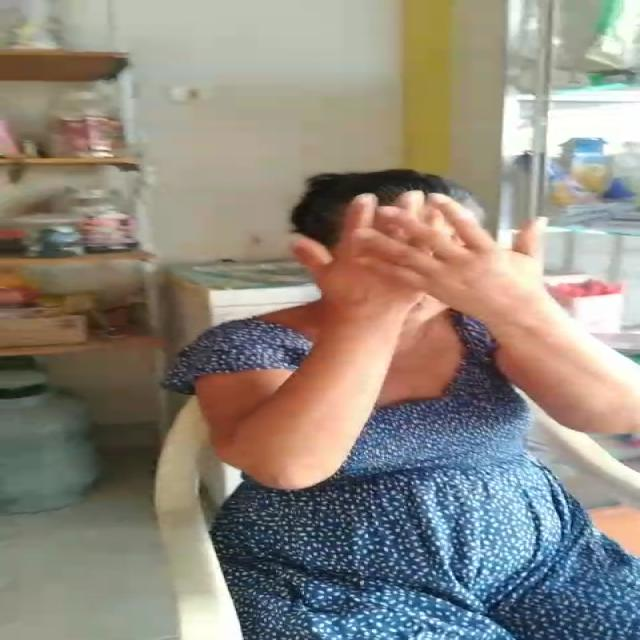7_mano_rostro: (291, 192, 497, 345)
